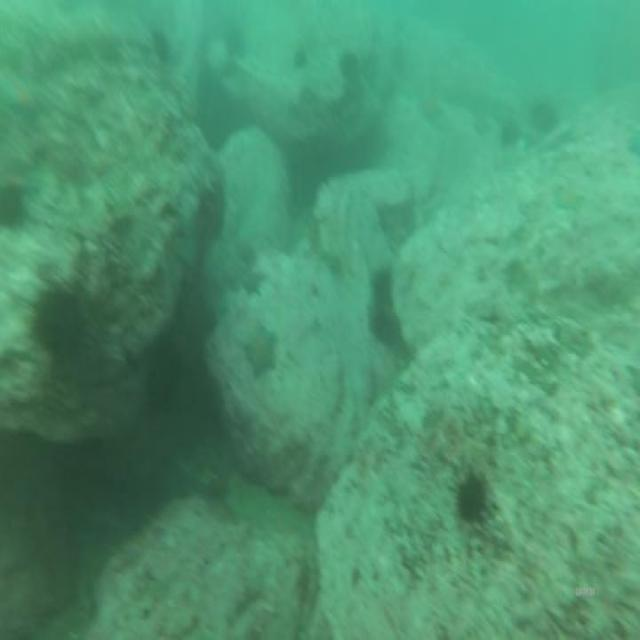echinus: (37, 289, 80, 362), (458, 478, 484, 522), (1, 185, 24, 224), (531, 101, 553, 127), (504, 118, 516, 148), (342, 54, 358, 76)
starfish: (246, 322, 276, 378)
